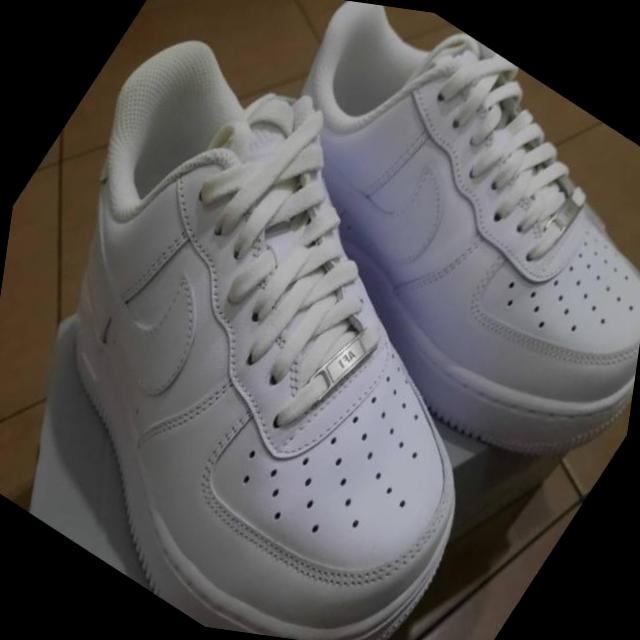nike_original_airforce: (0, 0, 638, 640), (123, 0, 640, 544)
